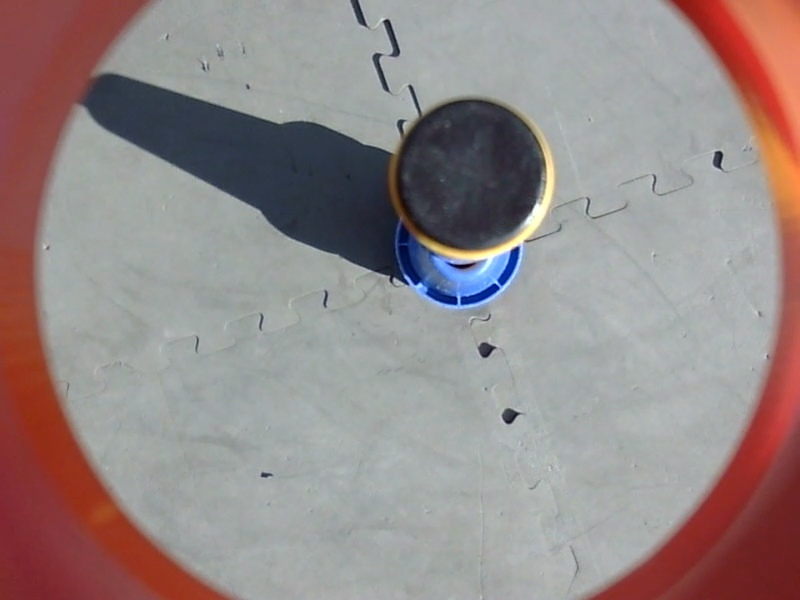tip: (382, 92, 561, 267)
